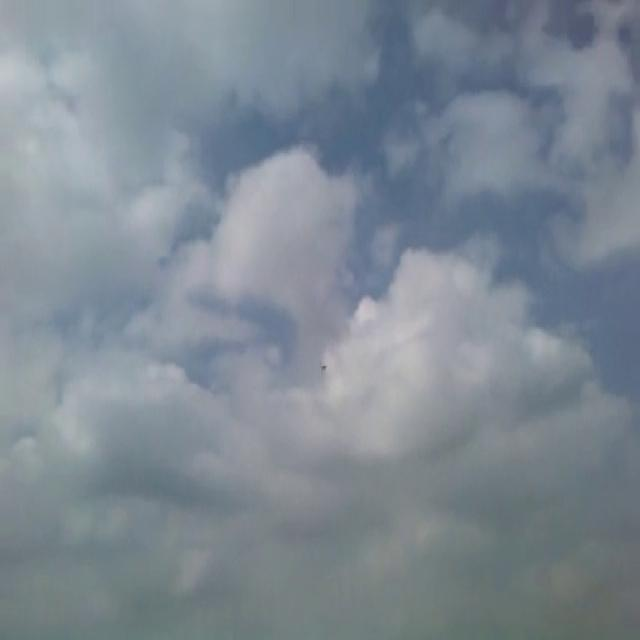drone: (317, 356, 330, 375)
